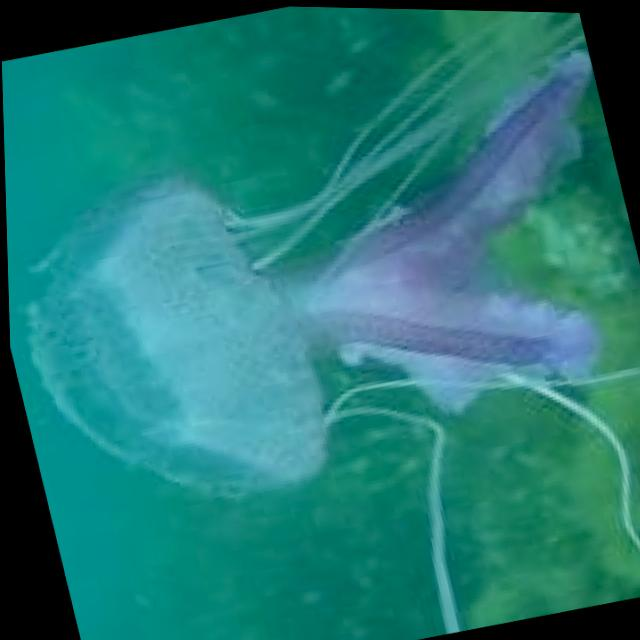Jellyfish: (1, 31, 640, 545)
